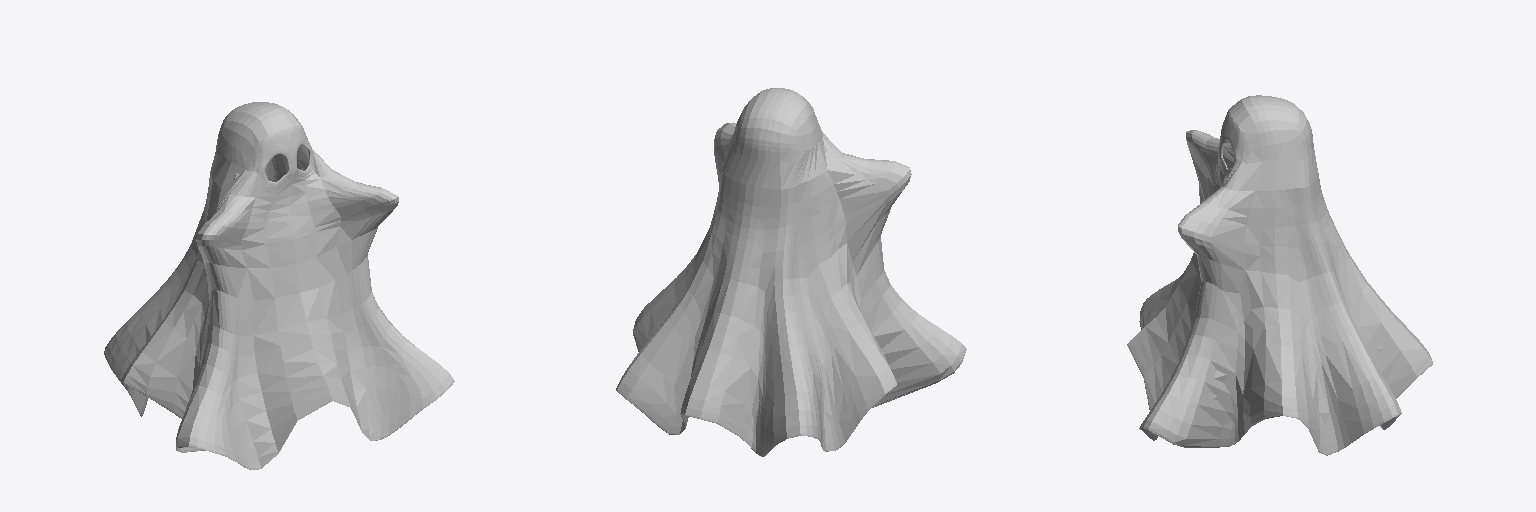
3 renders of one model, left to right at view 1: azimuth 30°, elevation 25°; view 2: azimuth 150°, elevation 25°; view 3: azimuth 270°, elevation 25°, orthographic.
Parts seen in each view (by area): view 1: youlinguu2:Group3 walk1; view 2: youlinguu2:Group3 walk1; view 3: youlinguu2:Group3 walk1.
Boxes of the visible parts, <box> form: youlinguu2:Group3 walk1: <box>104,102,454,469</box>; youlinguu2:Group3 walk1: <box>616,88,966,456</box>; youlinguu2:Group3 walk1: <box>1127,95,1432,455</box>.
Bounding box in the file's own units: 35.95 × 39.33 × 35.07.